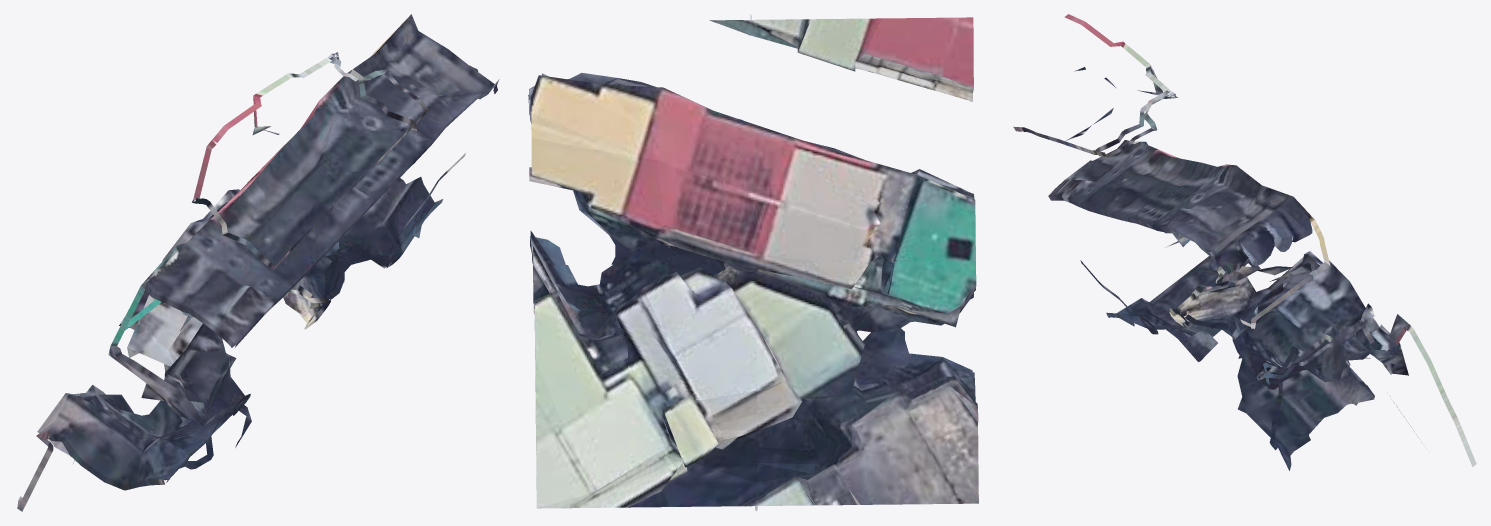
3 renders of one model, left to right at view 1: azimuth 30°, elevation 25°; view 2: azimuth 150°, elevation 25°; view 3: azimuth 270°, elevation 25°, orthographic. The views are drawn at different scales.
Bounding box in the file's own units: 41.57 × 37.94 × 39.25.
Materials: 2 (2 with a texture image).
